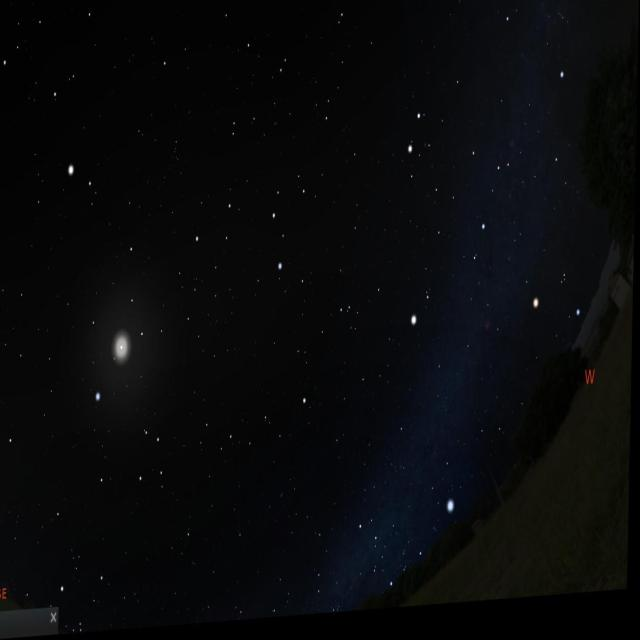bootes: (24, 0, 103, 205)
canis_minor: (406, 282, 437, 351)
gemini: (405, 94, 520, 286)
leo: (182, 161, 322, 292)
moon: (96, 302, 154, 394)
